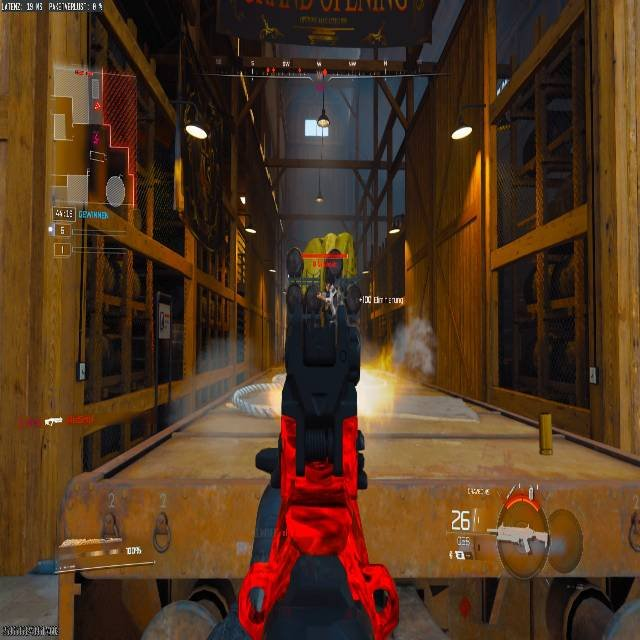player: (151, 506, 173, 557)
